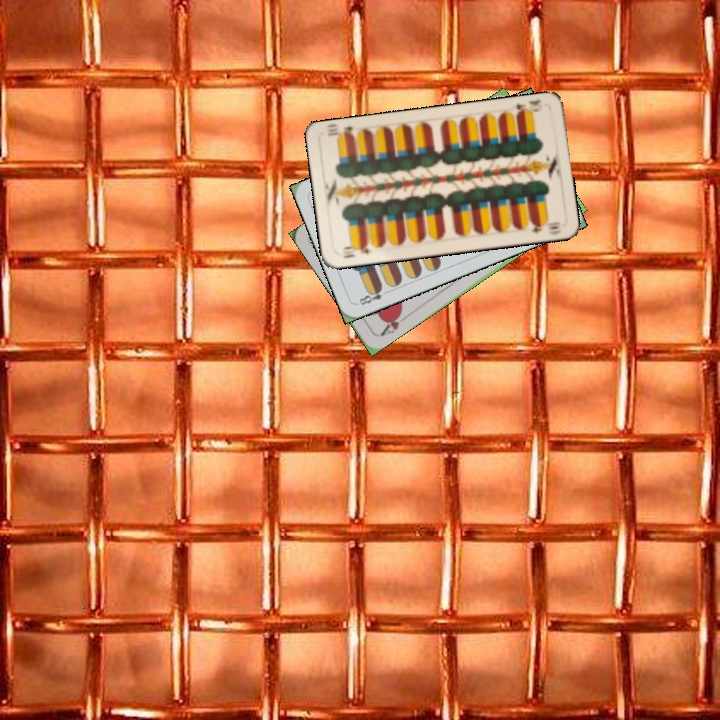E10: (512, 96, 545, 119), (338, 240, 372, 261)
E8: (355, 283, 392, 308)
HA: (376, 307, 411, 339)
